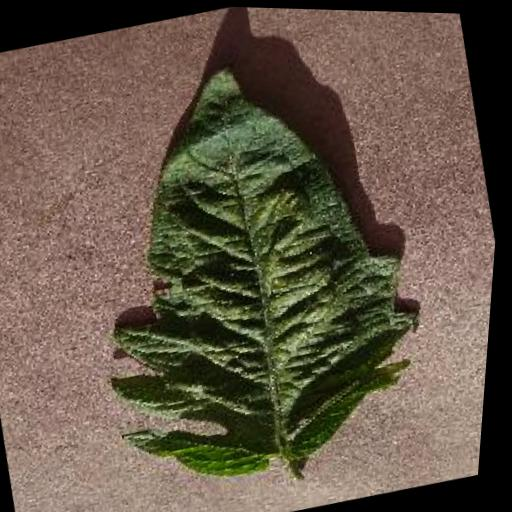Spider Mites: (42, 24, 460, 505)
